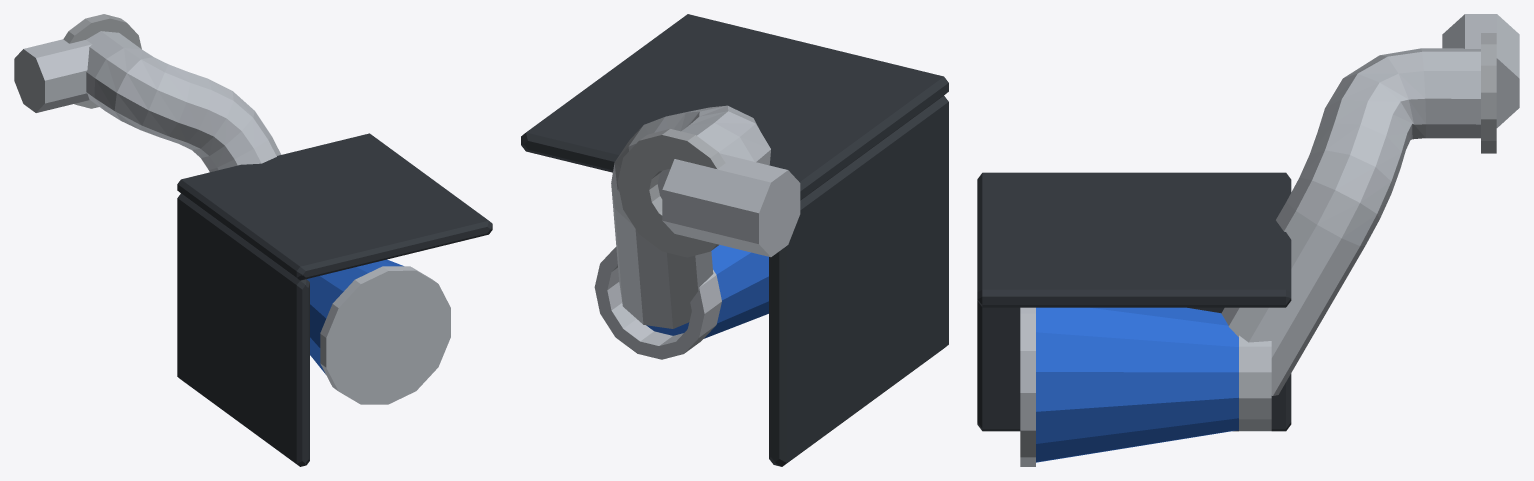
File: vortex_r.glb
The picture shows the model from 3 angles, left to right: view 1: azimuth 30°, elevation 25°; view 2: azimuth 150°, elevation 25°; view 3: azimuth 270°, elevation 25°; orthographic projection. The views are drawn at different scales.
Parts seen in each view (by area): view 1: model; view 2: model; view 3: model.
Part boxes in pixels (left/top/right/bottom): model: left=14, top=14, right=492, bottom=466; model: left=521, top=14, right=948, bottom=466; model: left=977, top=14, right=1519, bottom=466.
Size of the model in its own units: 0.3 by 0.3261 by 0.4146.
Materials: 2 (1 with a texture image).
